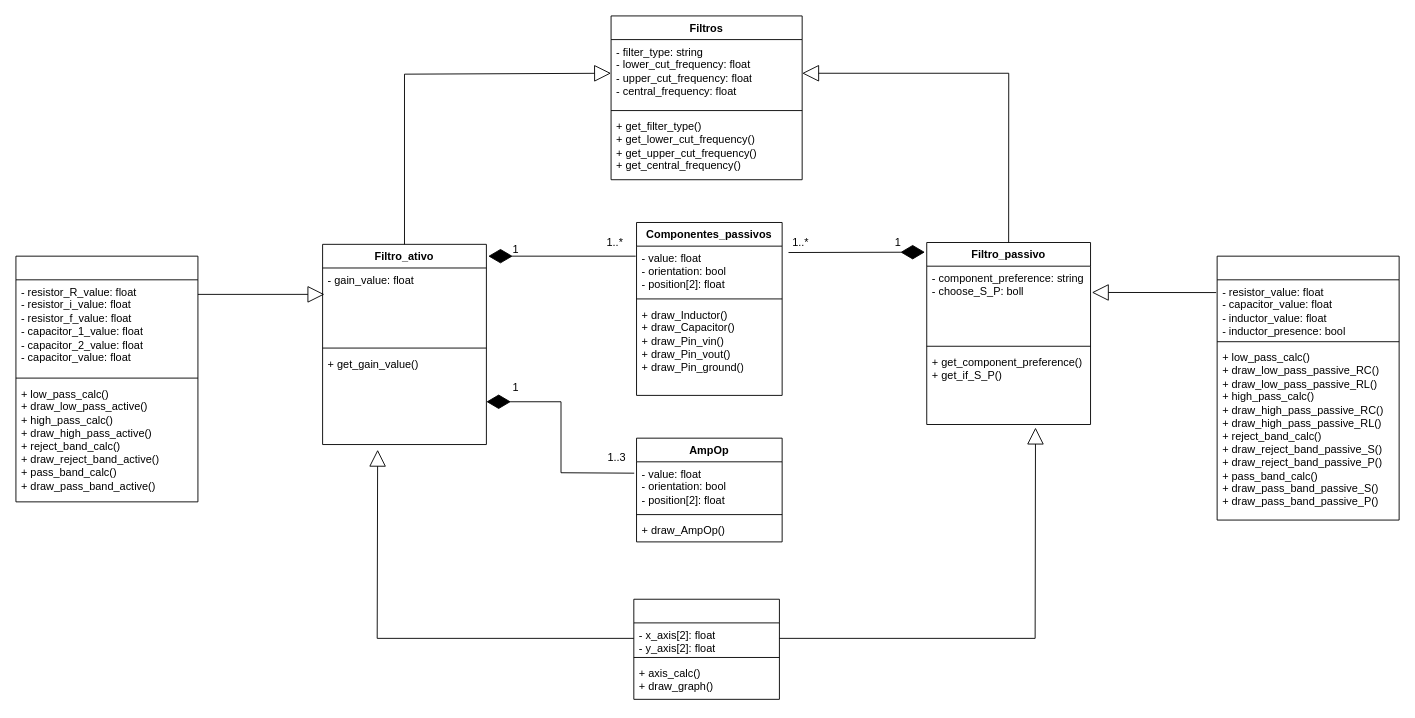
Image size: 1415x718. Some labels were removed from this diagram. The box of each missing label's shape, as (x1, y1, x2, y2) in pixels:
FIltro_ativo_desenho: (15, 255, 198, 502)
Filtro_passivo_desenho: (1216, 255, 1399, 520)
Grafico: (633, 598, 779, 699)
